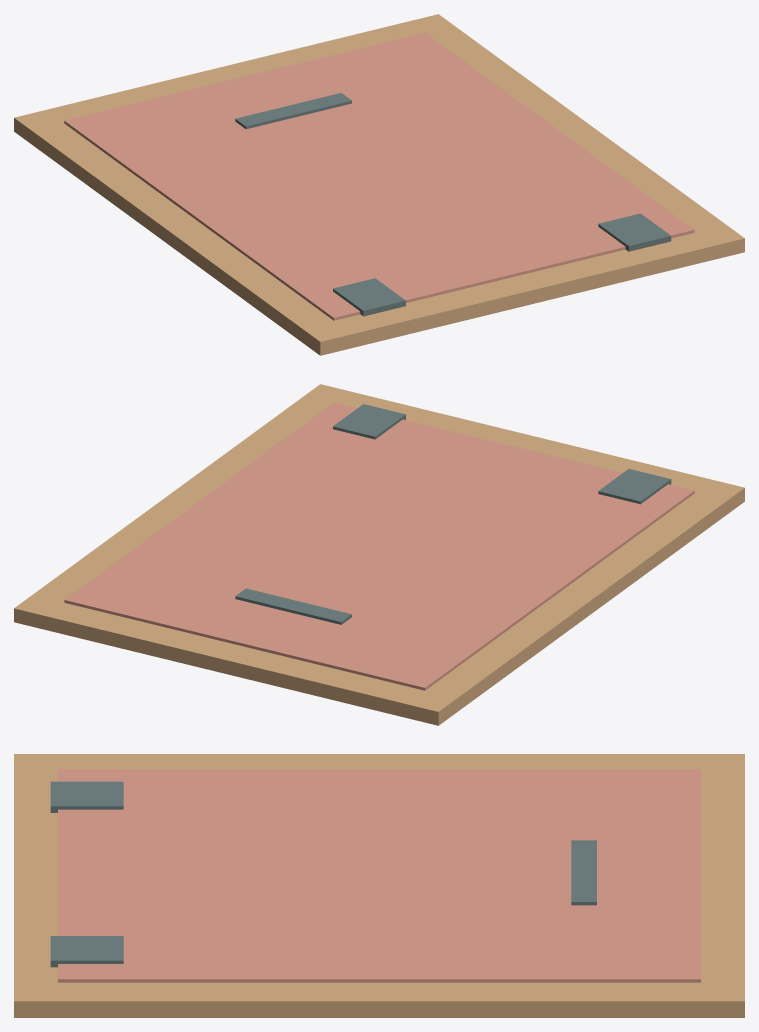
Rendered from attic-access-hatch.glb.
3 renders of one model, top to bottom at view 1: azimuth 30°, elevation 25°; view 2: azimuth 150°, elevation 25°; view 3: azimuth 270°, elevation 25°, orthographic. The views are drawn at different scales.
Bounding box in the file's own units: 0.8 × 0.035 × 1.
